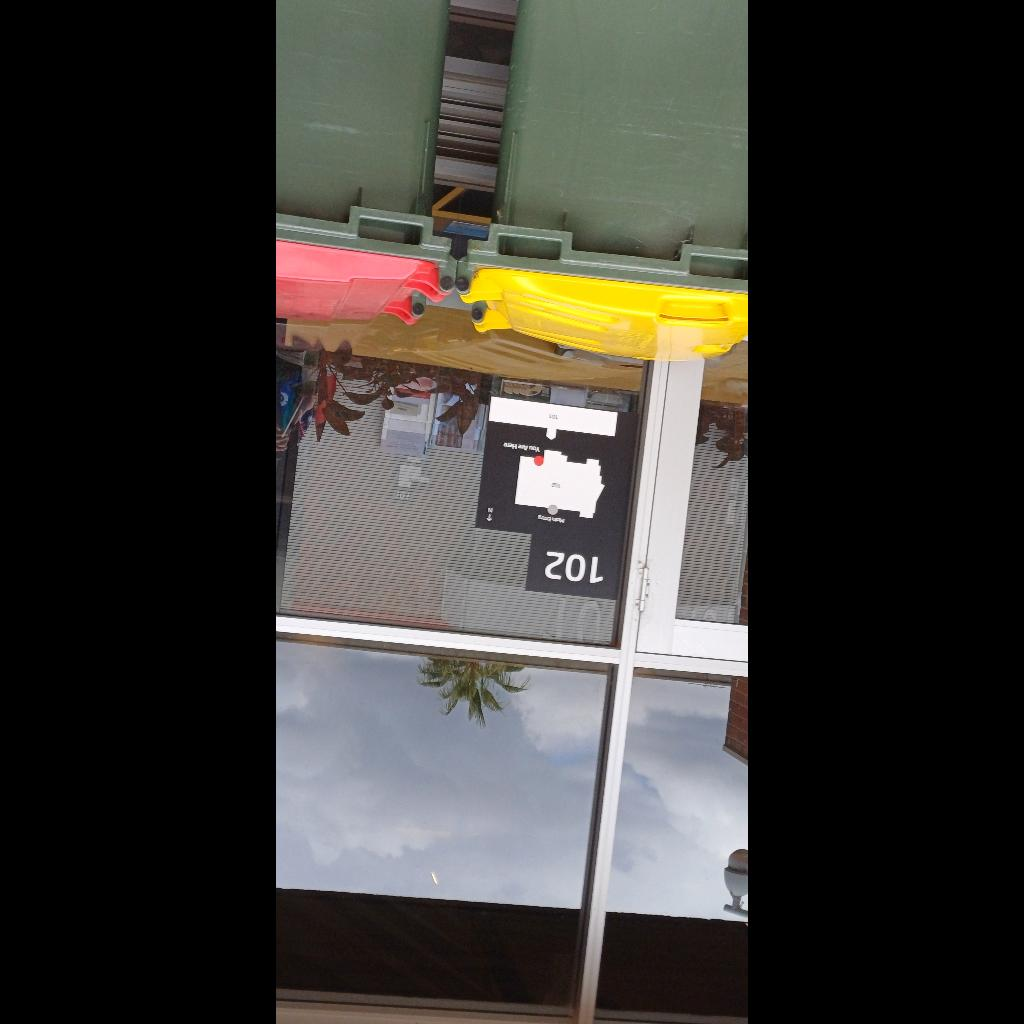BuildingCodes: (535, 536, 611, 592)
